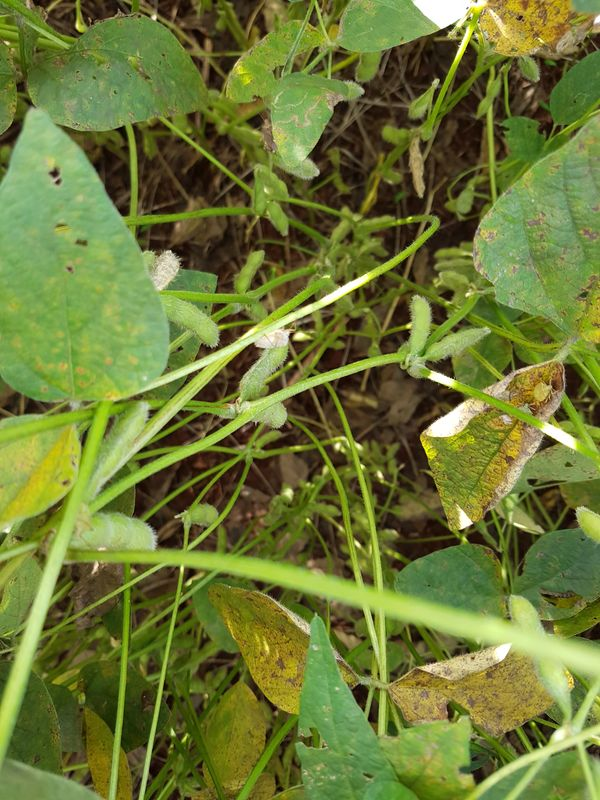Euschistus_heros_adulto: (136, 688, 159, 717)
Euschistus_heros_ninfa: (524, 374, 559, 412)
